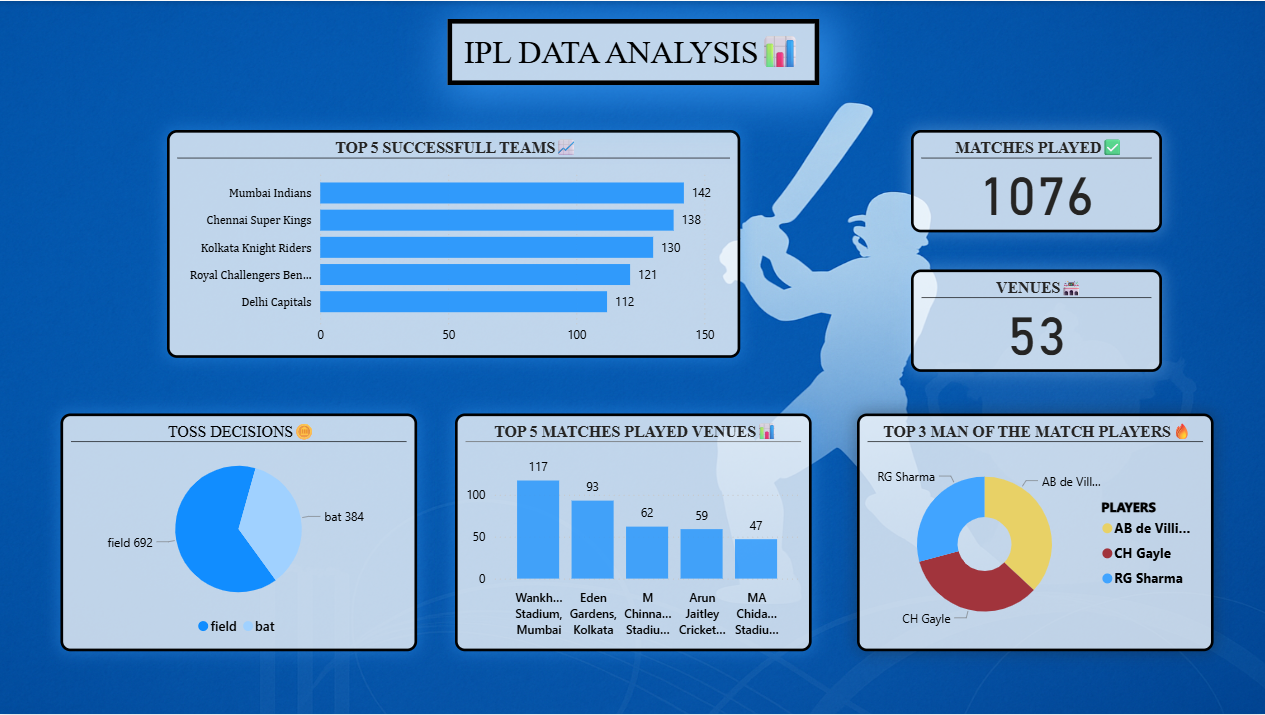

What the dashboard file says about the page in this screenshot:
{"tool":"powerbi","page":{"name":"Page 1","canvas":[1280,720],"ordinal":0},"visuals":[{"type":"card","title":"VENUES🏟️","fields":{"Values":["matches.venue"]},"box":[920,271.7,253.3,103.3],"z":0},{"type":"card","title":"MATCHES PLAYED✅","fields":{"Values":["matches.id"]},"box":[920,130,253.3,103.3],"z":1000},{"type":"donutChart","title":"TOP 3 MAN OF THE MATCH PLAYERS🔥","fields":{"Y":["matches.player_of_match"],"Category":["matches.player_of_match"]},"box":[866.7,416.7,360,240],"z":2000},{"type":"clusteredBarChart","title":"TOP 5 SUCCESSFULL TEAMS📈","fields":{"Category":["matches.winner"],"Y":["matches.team1"]},"box":[170,130,578.3,230],"z":3000},{"type":"pieChart","title":"TOSS DECISIONS🪙","fields":{"Category":["matches.toss_decision"],"Y":["matches.toss_decision"]},"box":[61.7,416.7,360,240],"z":4000},{"type":"clusteredColumnChart","title":"TOP 5 MATCHES PLAYED VENUES📊","fields":{"Y":["matches.venue"],"Category":["matches.venue"]},"box":[460,416.7,360,240],"z":5000},{"type":"textbox","box":[452.5,18.3,375,66.7],"z":6000}]}

Visuals, with their boxes in screenshot pixels (x1, y1, x2, y2), scaled from the page's 1280x720 canvas onto the 1265x715 screenshot:
"VENUES🏟️" card: (909,270,1160,372)
"MATCHES PLAYED✅" card: (909,129,1160,232)
"TOP 3 MAN OF THE MATCH PLAYERS🔥" donutChart: (857,414,1212,652)
"TOP 5 SUCCESSFULL TEAMS📈" clusteredBarChart: (168,129,740,358)
"TOSS DECISIONS🪙" pieChart: (61,414,417,652)
"TOP 5 MATCHES PLAYED VENUES📊" clusteredColumnChart: (455,414,810,652)
textbox: (447,18,818,84)
